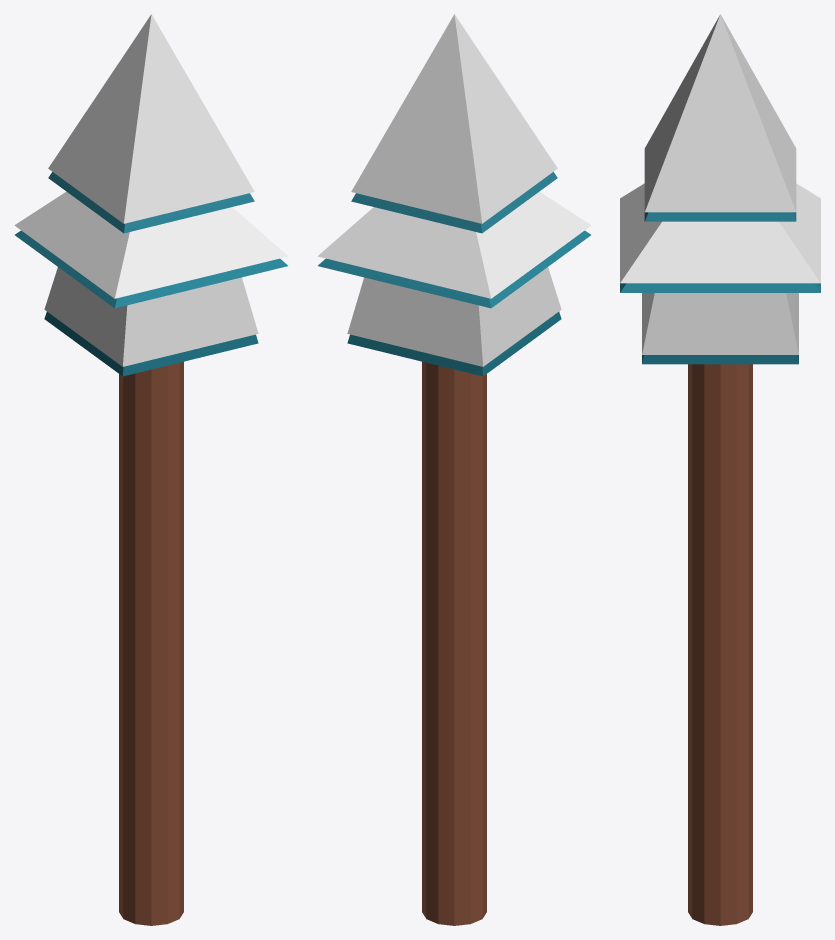
Rendered from Tree_15_winter_gradient_blue_pal.fbx.
3 renders of one model, left to right at view 1: azimuth 30°, elevation 25°; view 2: azimuth 150°, elevation 25°; view 3: azimuth 270°, elevation 25°, orthographic.
Visible parts, largest first — view 1: Tree_15_winter_gradient_blue_pal; view 2: Tree_15_winter_gradient_blue_pal; view 3: Tree_15_winter_gradient_blue_pal.
Part boxes in pixels (x1,y1,x2,y2): Tree_15_winter_gradient_blue_pal: (14,14,288,925); Tree_15_winter_gradient_blue_pal: (317,14,591,925); Tree_15_winter_gradient_blue_pal: (620,14,820,925).
Size of the model in its own units: 68.73 by 339 by 68.73.
